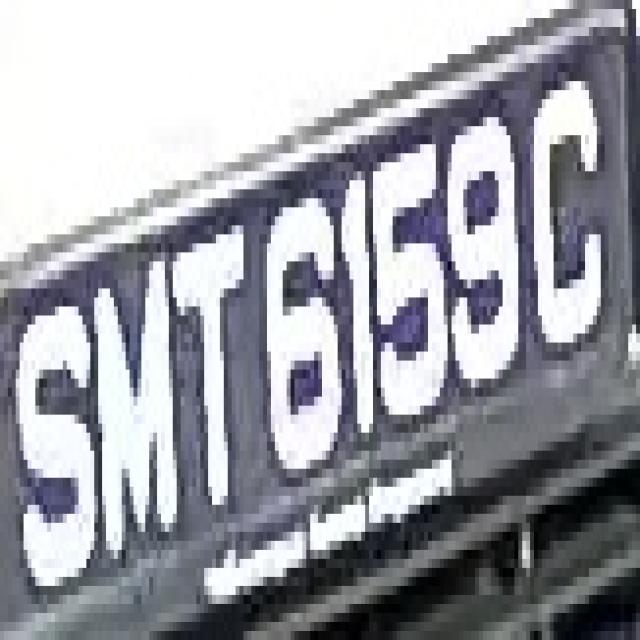1: (334, 144, 381, 460)
5: (365, 162, 452, 451)
6: (251, 180, 338, 469)
9: (436, 72, 522, 406)
C: (522, 63, 609, 361)
M: (90, 243, 181, 577)
S: (16, 252, 98, 586)
T: (157, 198, 247, 550)
